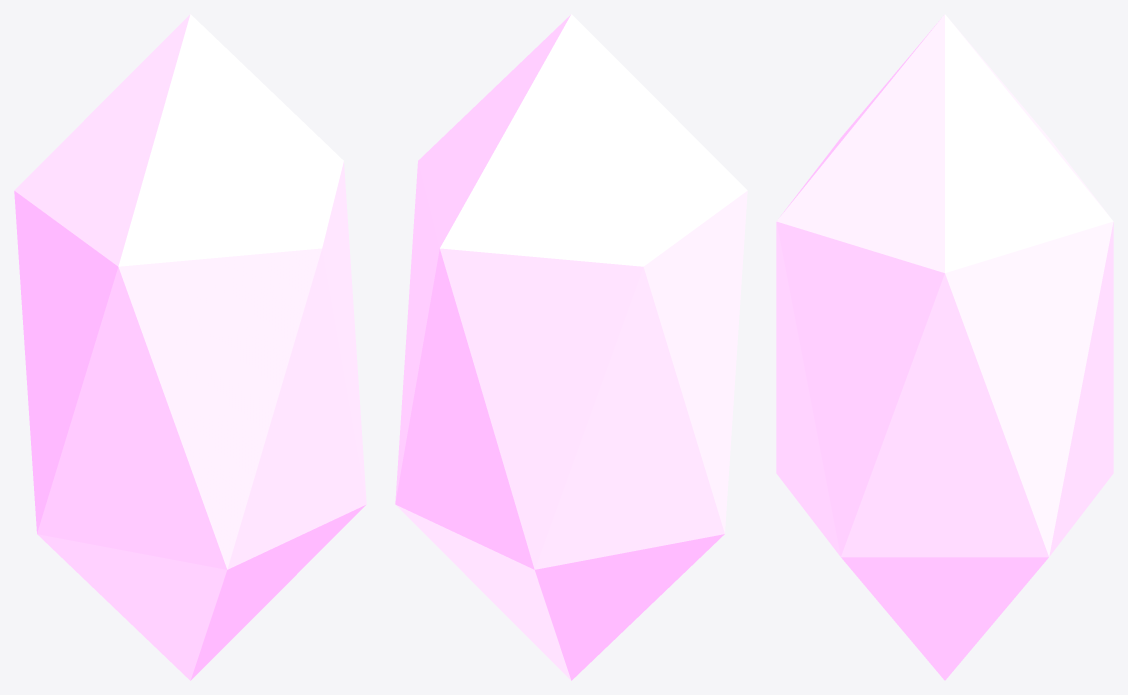
The model's file is soul-gem.glb.
The picture shows the model from 3 angles, left to right: view 1: azimuth 30°, elevation 25°; view 2: azimuth 150°, elevation 25°; view 3: azimuth 270°, elevation 25°; orthographic projection.
Parts seen in each view (by area): view 1: Icosphere; view 2: Icosphere; view 3: Icosphere.
Boxes of the visible parts, bbox=[...] form: Icosphere: bbox=[14, 14, 366, 680]; Icosphere: bbox=[395, 14, 747, 680]; Icosphere: bbox=[776, 14, 1113, 680].
Bounding box in the file's own units: 0.7513 × 1.56 × 0.7145.
